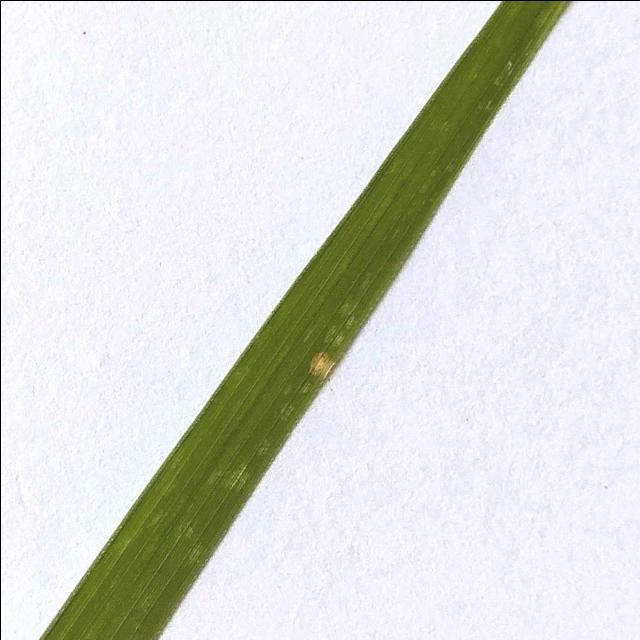Leaf_Blast: (298, 328, 346, 384)
